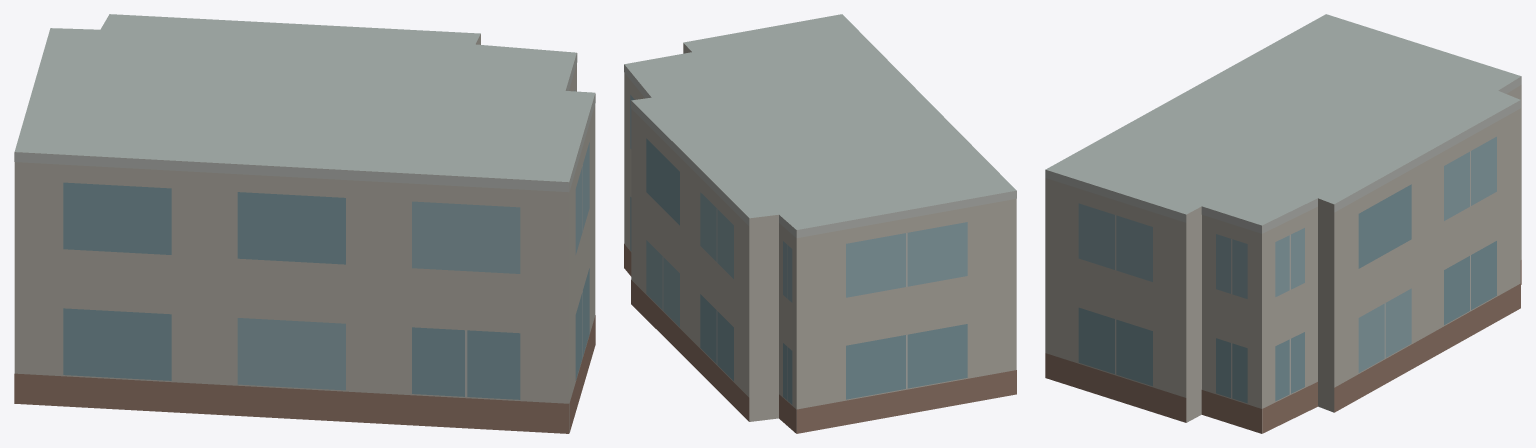
Rendered from survey-upis-32490884.glb.
3 renders of one model, left to right at view 1: azimuth 30°, elevation 25°; view 2: azimuth 150°, elevation 25°; view 3: azimuth 270°, elevation 25°, orthographic. The views are drawn at different scales.
Parts seen in each view (by area): view 1: survey-upis-32490884.tmp; view 2: survey-upis-32490884.tmp; view 3: survey-upis-32490884.tmp.
Boxes of the visible parts, x1,y1,x2,y2 form: survey-upis-32490884.tmp: (14,14,595,433); survey-upis-32490884.tmp: (624,14,1016,433); survey-upis-32490884.tmp: (1045,14,1521,433).
Size of the model in its own units: 13.29 by 6.1 by 12.65.
